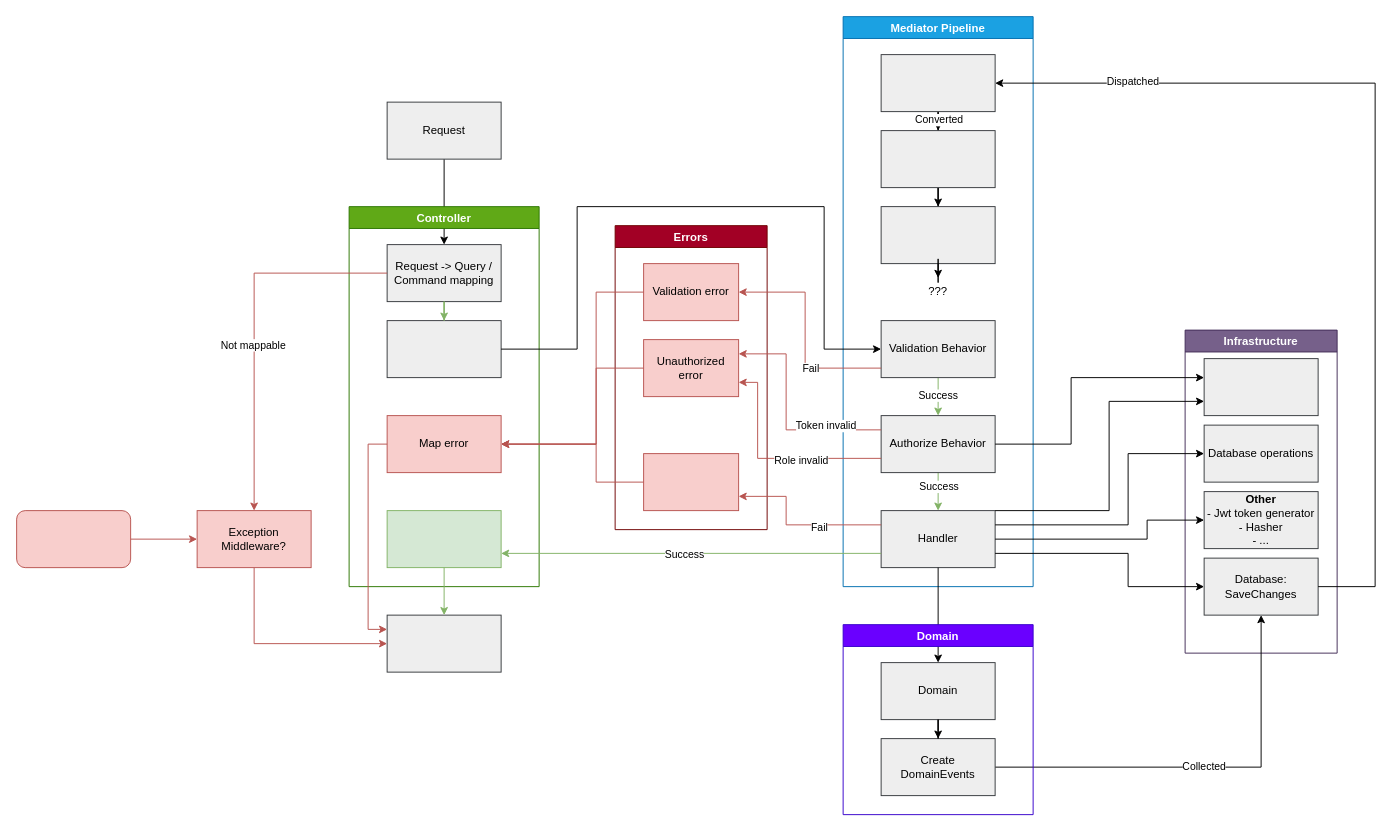
Some shapes in this 1399 by 831 pixel diagram are drawn without their labels. The centre of each missing label's shape, as x and y in pixels:
"All runtime exceptions" belongs at point (73, 539).
"EventDispatcher" belongs at point (937, 83).
"Map response" belongs at point (443, 539).
"Mediator call" belongs at point (443, 349).
"MediatR Notification" belongs at point (937, 159).
"NotificationHandler" belongs at point (937, 235).
"Other errors" belongs at point (691, 482).
"Response" belongs at point (443, 643).
"User context" belongs at point (1260, 387).
